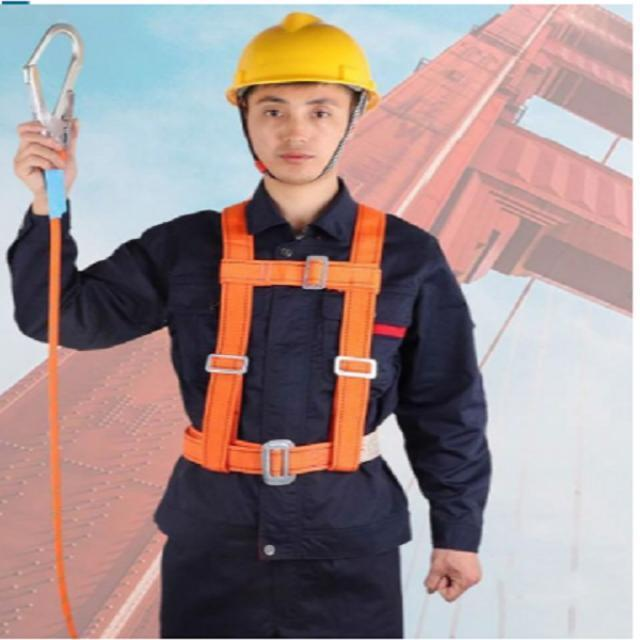No_Goggles: (246, 93, 346, 133)
